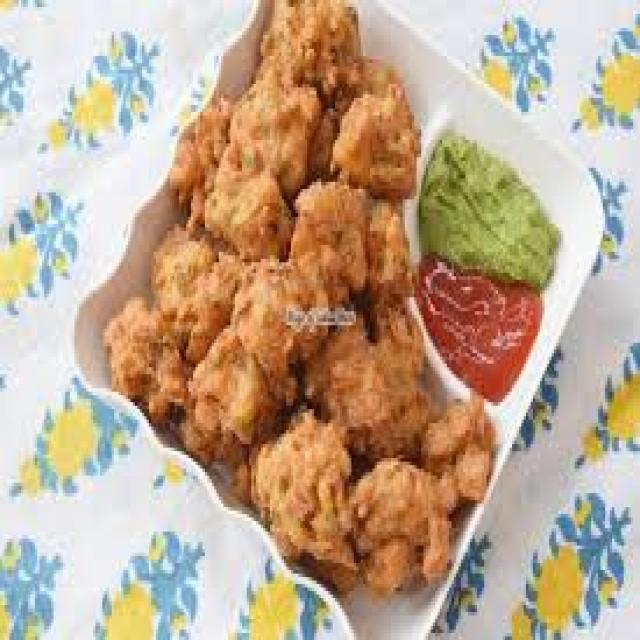BAJI: (245, 0, 355, 188), (299, 314, 437, 462), (345, 465, 454, 606), (283, 181, 379, 311), (259, 422, 346, 564), (230, 264, 316, 402), (192, 325, 281, 443), (206, 145, 291, 264), (326, 84, 418, 187), (154, 227, 229, 347), (415, 400, 491, 514), (118, 303, 186, 407)
